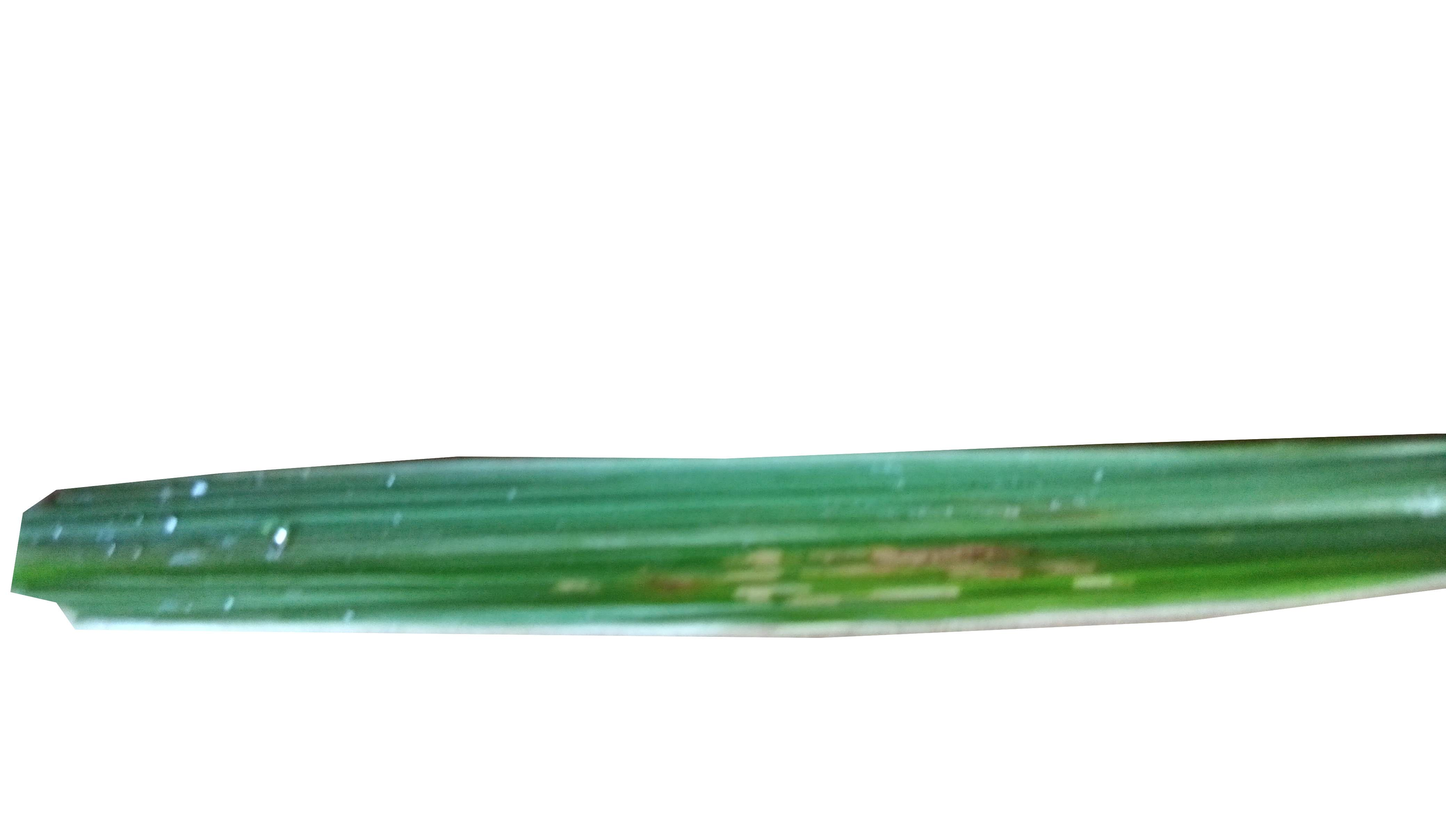Blight: (881, 511, 1097, 589), (720, 519, 829, 615), (627, 545, 704, 617)
